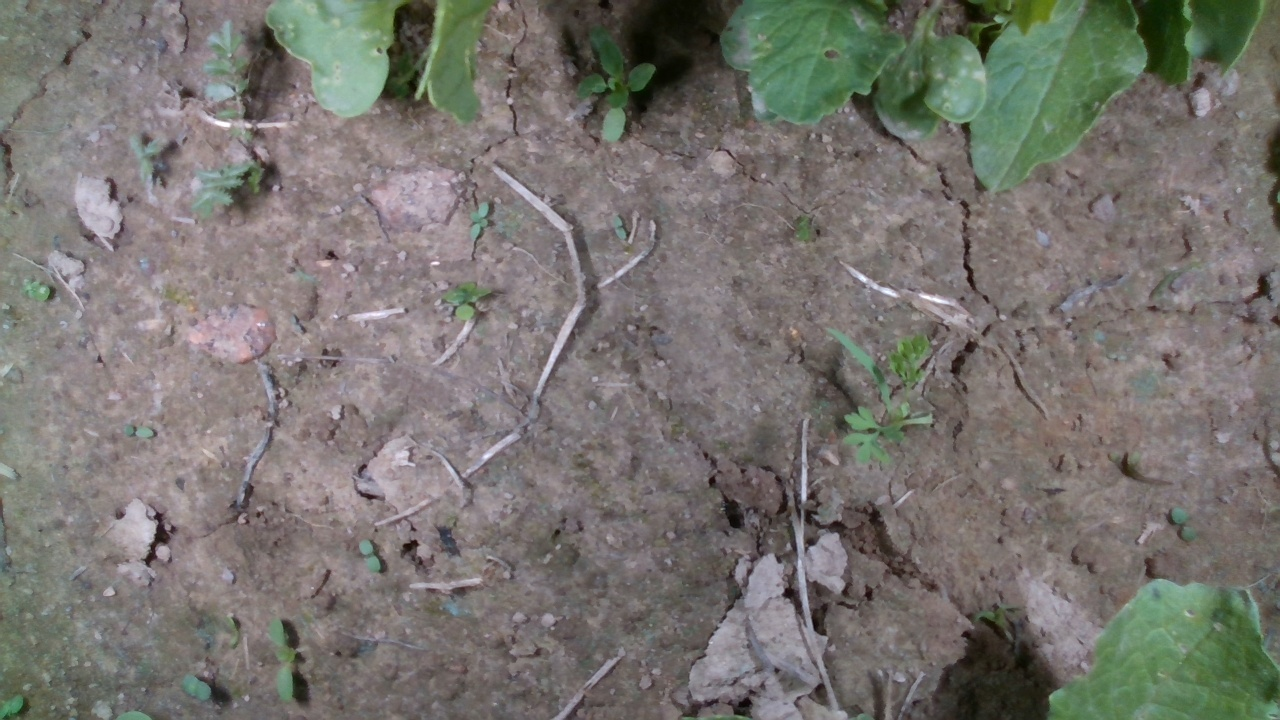weed: (268, 617, 294, 705), (1170, 505, 1196, 543), (357, 537, 382, 573), (180, 674, 212, 702), (469, 200, 489, 243), (22, 279, 51, 302), (123, 425, 156, 439), (610, 216, 628, 241)
